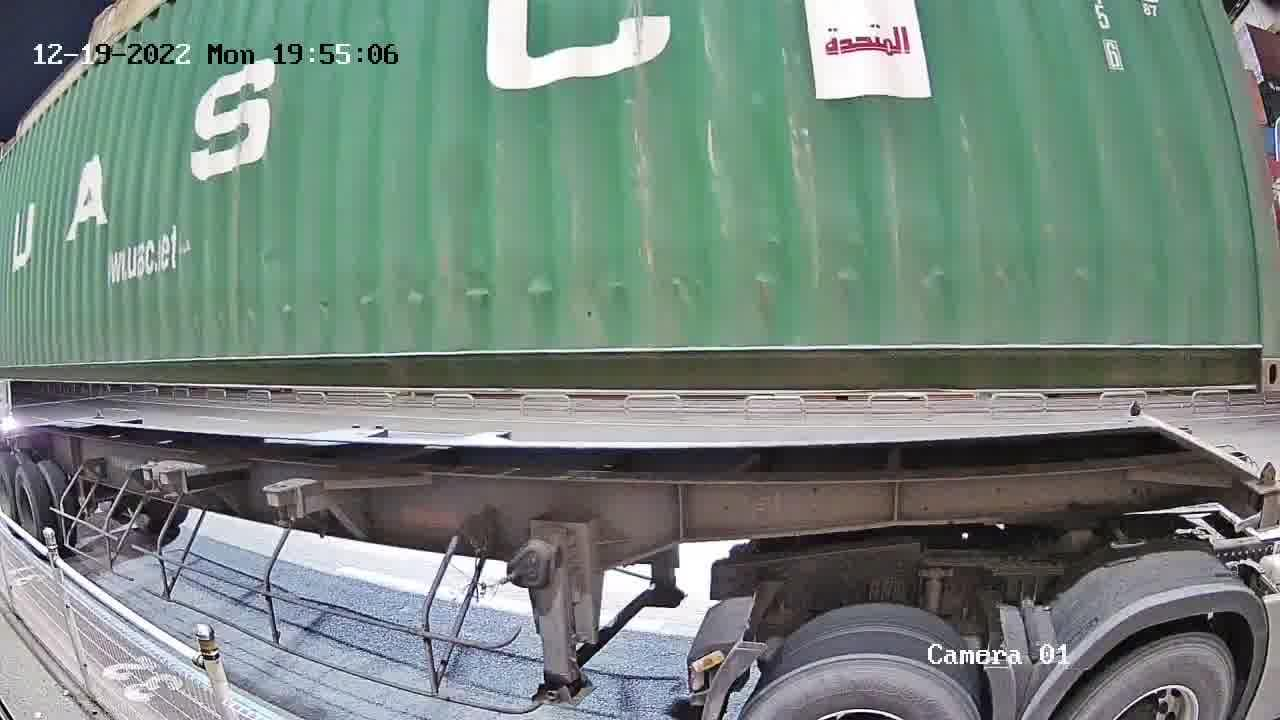Chassis: (1127, 409, 1279, 524)
Cone: (1249, 463, 1279, 524), (1123, 400, 1141, 415)
Hole_R: (1201, 304, 1279, 390)
Tire: (743, 657, 977, 716), (1068, 633, 1236, 714)
